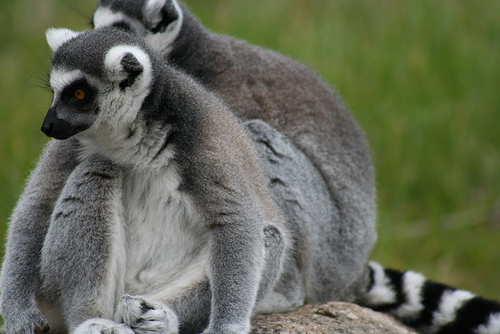cat: (90, 0, 499, 331), (2, 27, 294, 333)
